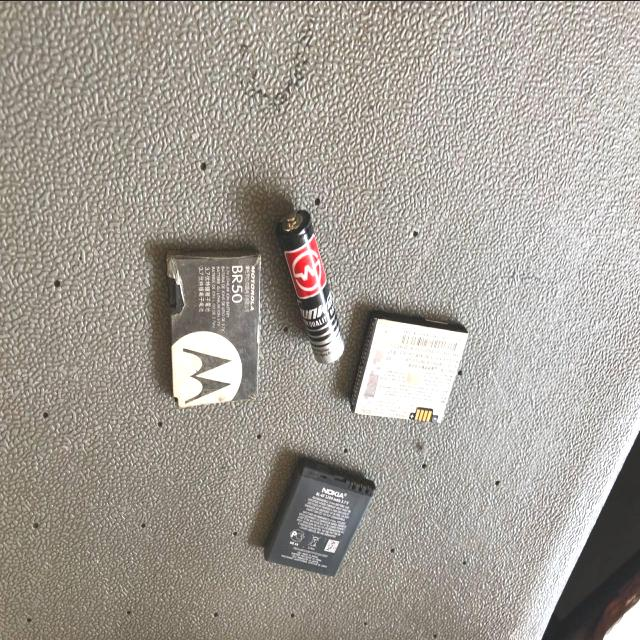AAA: (267, 185, 360, 386)
